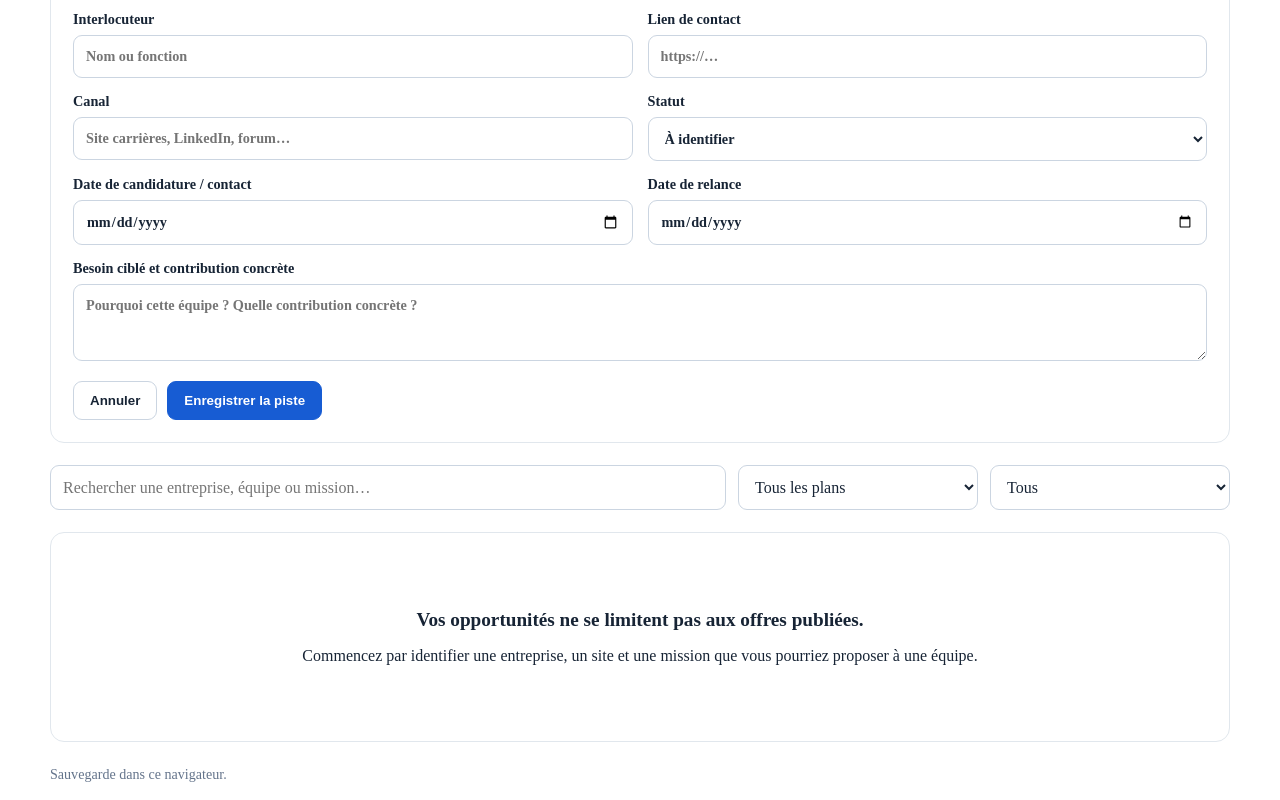
Test: ProspectionPage › prefills and saves an Alstom Plan B spontaneous application
This screenshot has width=1280, height=800.
(page scrolled)
Click the button "Enregistrer la piste": [245, 400] box [167, 381, 322, 420]
(page scrolled)
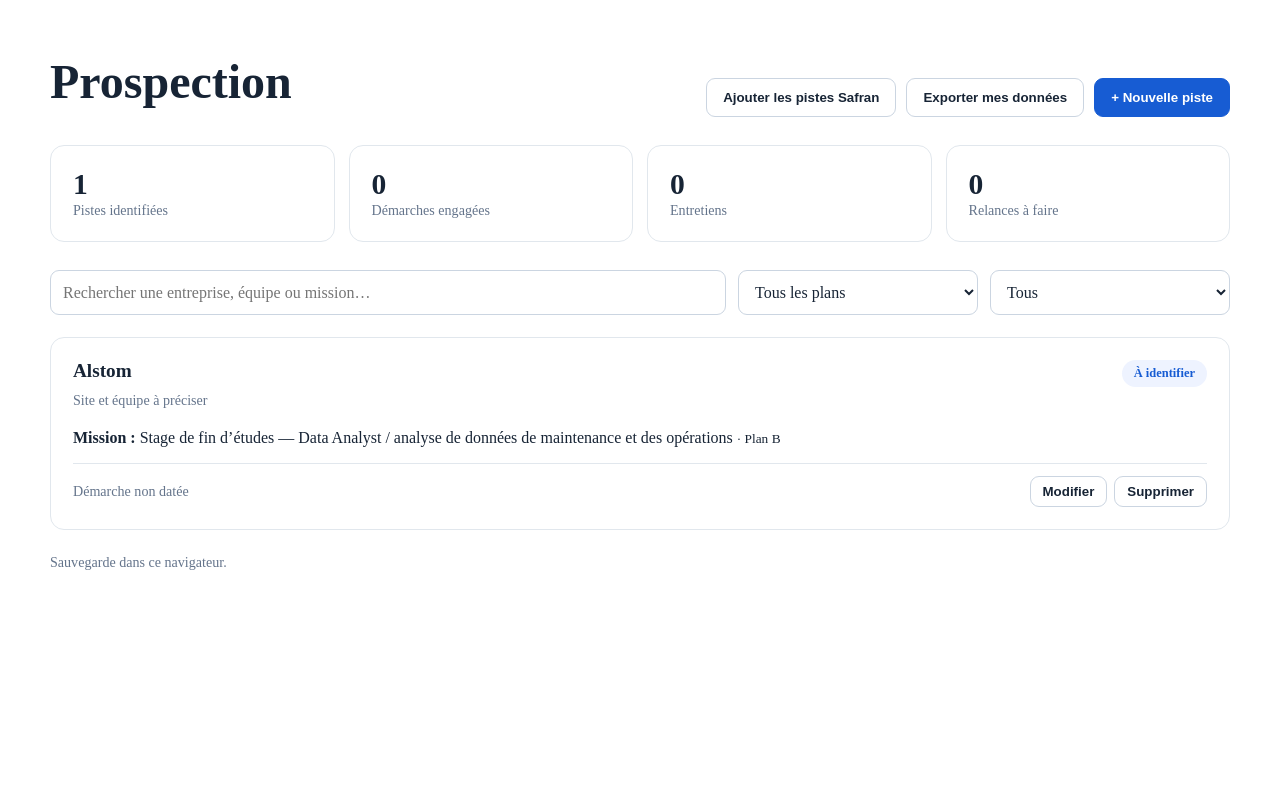
Expected: the heading "Alstom" is shown, [73, 360, 132, 381]
